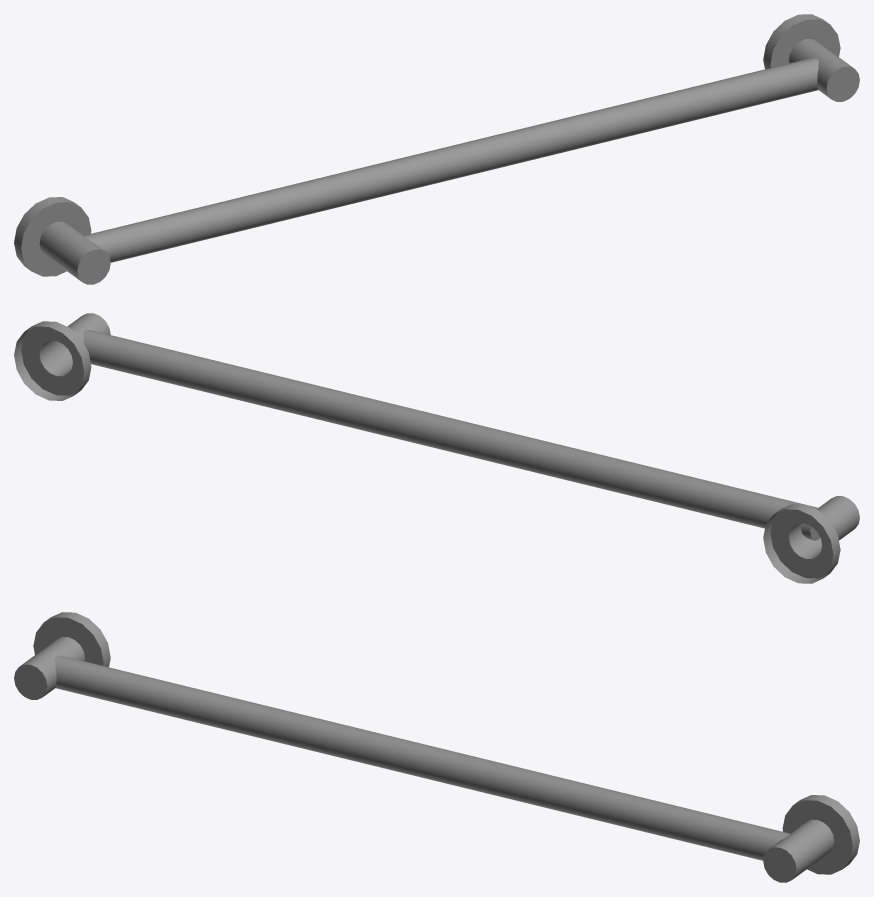
Rendered from SM_SmallRack.fbx.
3 renders of one model, top to bottom at view 1: azimuth 30°, elevation 25°; view 2: azimuth 150°, elevation 25°; view 3: azimuth 330°, elevation 25°, orthographic.
Visible parts, largest first — view 1: Rack; view 2: Rack; view 3: Rack.
Boxes of the visible parts, x1=… form: Rack: x1=14, y1=14, x2=859, y2=284; Rack: x1=14, y1=313, x2=859, y2=583; Rack: x1=14, y1=612, x2=859, y2=882.
Size of the model in its own units: 70.22 by 6.02 by 6.67.
